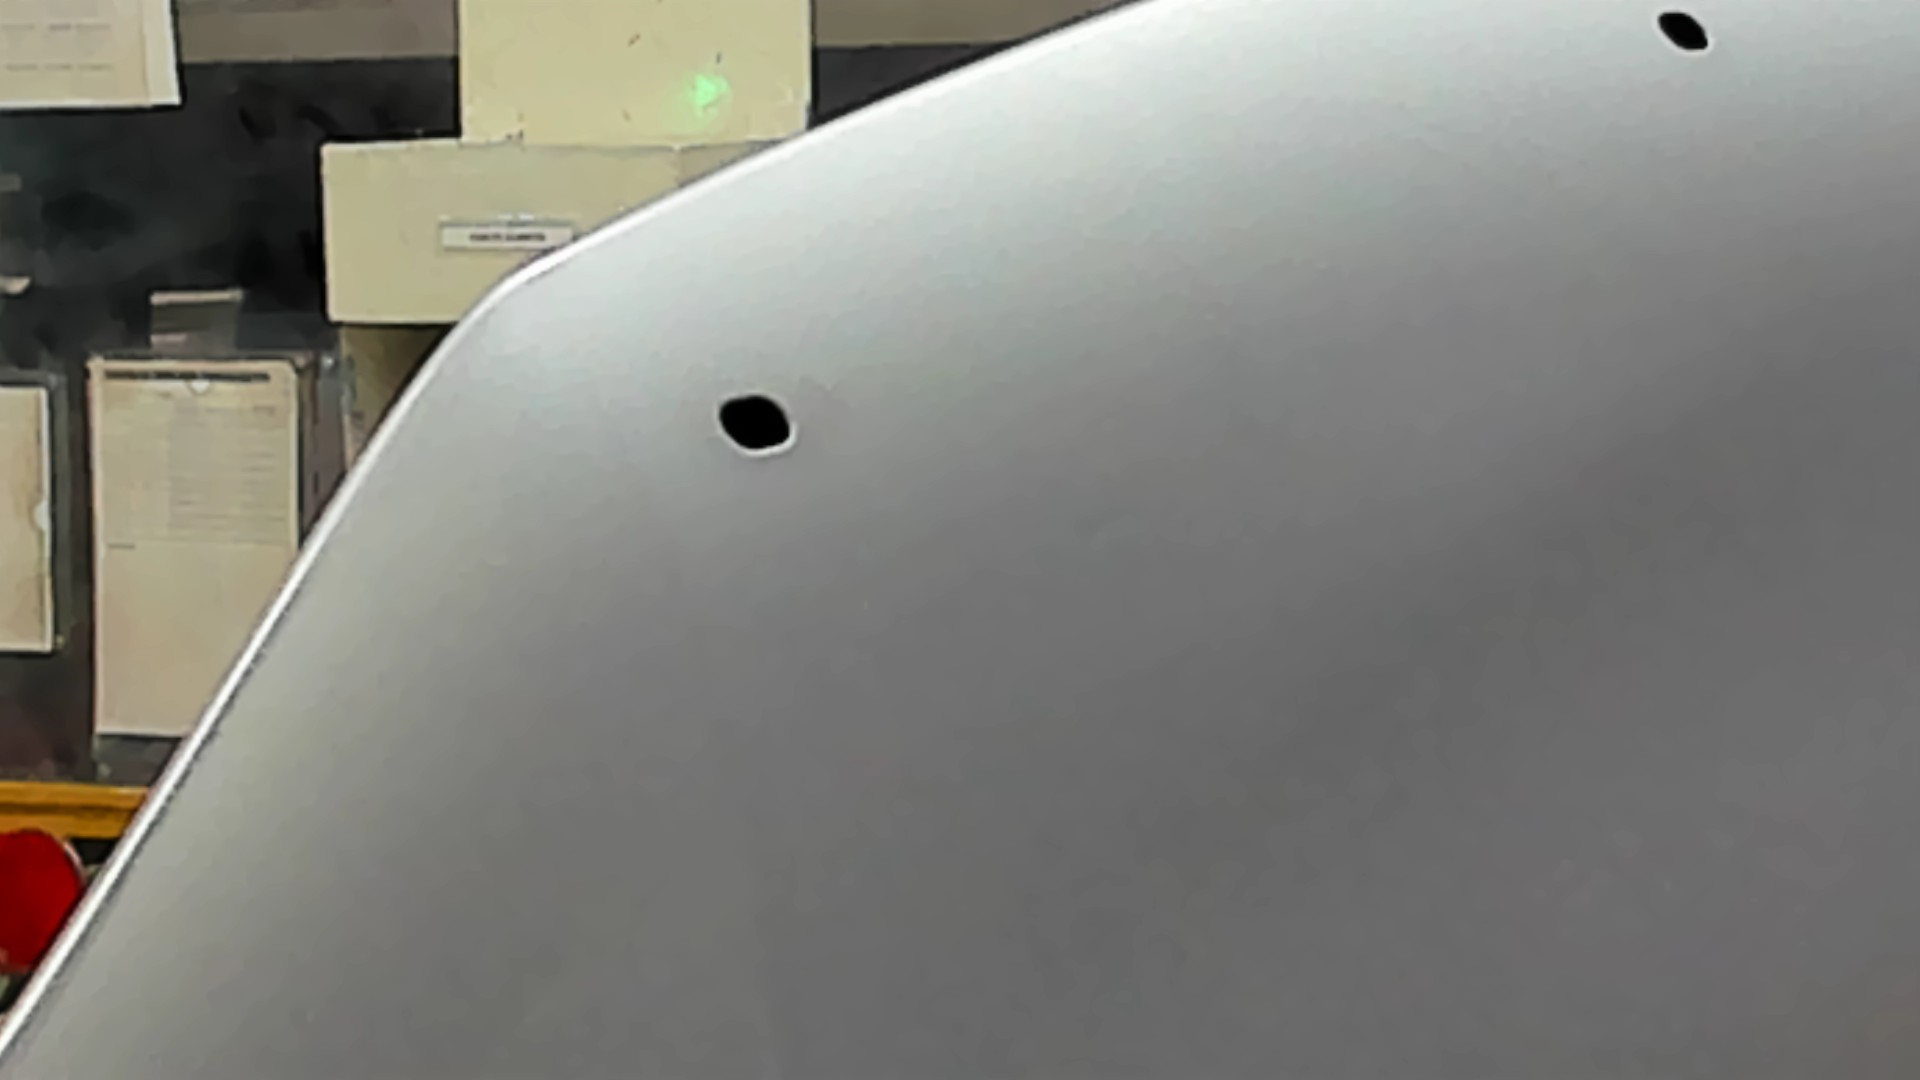chico: (702, 382, 814, 465), (1646, 1, 1725, 69)
